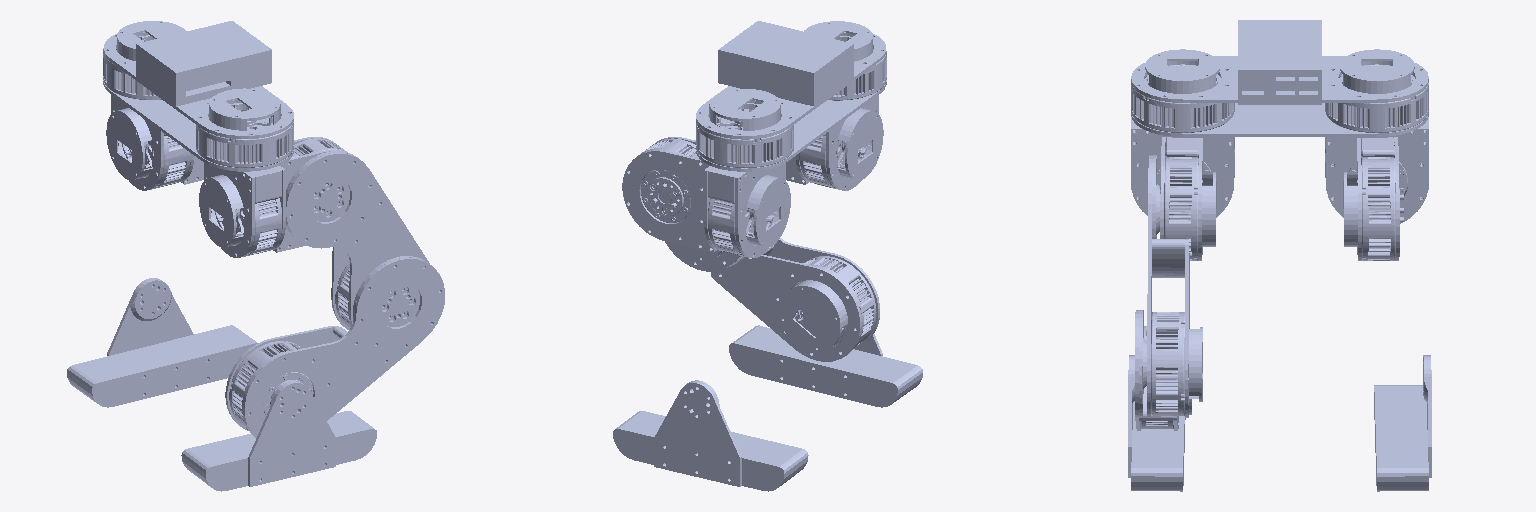
The robot description file, URDF, robot "openduckpro3":
<?xml version="1.0" encoding="utf-8"?>
<!-- This URDF was automatically created by SolidWorks to URDF Exporter! Originally created by Stephen Brawner (brawner@gmail.com)
     Commit Version: 1.6.0-4-g7f85cfe  Build Version: 1.6.7995.38578
     For more information, please see http://wiki.ros.org/sw_urdf_exporter -->
<robot
  name="openduckpro3">
  <!-- Pro3 rotates the physical robot 180 degrees and remaps leg names to root-frame left and right. -->
  <link
    name="base_link" />
  <joint
    name="base_turnaround_joint"
    type="fixed">
    <origin
      xyz="0 0 0"
      rpy="0 0 3.141592653589793" />
    <parent
      link="base_link" />
    <child
      link="base_rotated_link" />
  </joint>
  <link
    name="base_rotated_link">
    <inertial>
      <origin
        xyz="-0.00141080550252965 0 0.0266358869045288"
        rpy="0 0 0" />
      <mass
        value="1.38" />
      <inertia
        ixx="0.00179049"
        ixy="0"
        ixz="0.00001246"
        iyy="0.00039624"
        iyz="0"
        izz="0.00187534" />
    </inertial>
    <visual>
      <origin
        xyz="0 0 0"
        rpy="0 0 0" />
      <geometry>
        <mesh
          filename="../meshes/base_link.STL" />
      </geometry>
      <material
        name="">
        <color
          rgba="0.792156862745098 0.819607843137255 0.933333333333333 1" />
      </material>
    </visual>
    <collision>
      <origin
        xyz="0 0 0"
        rpy="0 0 0" />
      <geometry>
        <mesh
          filename="../meshes/base_link.STL" />
      </geometry>
    </collision>
  </link>
  <link
    name="right_leg_yaw_link">
    <inertial>
      <origin
        xyz="-0.000168509325045557 0.000746362761765561 -0.0417397454040535"
        rpy="0 0 0" />
      <mass
        value="0.48200000" />
      <inertia
        ixx="0.00016435"
        ixy="-0.00000073"
        ixz="-0.00000093"
        iyy="0.00010408"
        iyz="-0.00000016"
        izz="0.00009129" />
    </inertial>
    <visual>
      <origin
        xyz="0 0 0"
        rpy="0 0 0" />
      <geometry>
        <mesh
          filename="../meshes/left_leg_yaw_link.STL" />
      </geometry>
      <material
        name="">
        <color
          rgba="0.792156862745098 0.819607843137255 0.933333333333333 1" />
      </material>
    </visual>
    <collision>
      <origin
        xyz="0 0 0"
        rpy="0 0 0" />
      <geometry>
        <mesh
          filename="../meshes/left_leg_yaw_link.STL" />
      </geometry>
    </collision>
  </link>
  <joint
    name="right_leg_yaw_joint"
    type="revolute">
    <origin
      xyz="0 0.075 -0.0005"
      rpy="0 0 1.5666" />
    <parent
      link="base_rotated_link" />
    <child
      link="right_leg_yaw_link" />
    <axis
      xyz="0 0 1" />
    <limit
      lower="-2"
      upper="2"
      effort="30"
      velocity="21" />
  </joint>
  <link
    name="right_leg_roll_link">
    <inertial>
      <origin
        xyz="0.000744845290186466 0.0001750947555509 -0.0417397453817851"
        rpy="0 0 0" />
      <mass
        value="0.48200000" />
      <inertia
        ixx="0.00009132"
        ixy="0.00000188"
        ixz="0.00000018"
        iyy="0.00016433"
        iyz="0.00000005"
        izz="0.00010407" />
    </inertial>
    <visual>
      <origin
        xyz="0 0 0"
        rpy="0 0 0" />
      <geometry>
        <mesh
          filename="../meshes/left_leg_roll_link.STL" />
      </geometry>
      <material
        name="">
        <color
          rgba="0.792156862745098 0.819607843137255 0.933333333333333 1" />
      </material>
    </visual>
    <collision>
      <origin
        xyz="0 0 0"
        rpy="0 0 0" />
      <geometry>
        <mesh
          filename="../meshes/left_leg_roll_link.STL" />
      </geometry>
    </collision>
  </link>
  <joint
    name="right_leg_roll_joint"
    type="revolute">
    <origin
      xyz="0.00014573 0.016499 -0.049"
      rpy="1.5708 0 -0.0088323" />
    <parent
      link="right_leg_yaw_link" />
    <child
      link="right_leg_roll_link" />
    <axis
      xyz="0 0 1" />
    <limit
      lower="-2"
      upper="2"
      effort="30"
      velocity="21" />
  </joint>
  <link
    name="right_leg_pitch_link">
    <inertial>
      <origin
        xyz="-0.0476473292738206 -0.0769900006807549 0.00428321304072461"
        rpy="0 0 0" />
      <mass
        value="0.59500000" />
      <inertia
        ixx="0.00041776"
        ixy="-0.00001490"
        ixz="-0.00016045"
        iyy="0.00056091"
        iyz="-0.00002449"
        izz="0.00018412" />
    </inertial>
    <visual>
      <origin
        xyz="0 0 0"
        rpy="0 0 0" />
      <geometry>
        <mesh
          filename="../meshes/left_leg_pitch_link.STL" />
      </geometry>
      <material
        name="">
        <color
          rgba="0.792156862745098 0.819607843137255 0.933333333333333 1" />
      </material>
    </visual>
    <collision>
      <origin
        xyz="0 0 0"
        rpy="0 0 0" />
      <geometry>
        <mesh
          filename="../meshes/left_leg_pitch_link.STL" />
      </geometry>
    </collision>
  </link>
  <joint
    name="right_leg_pitch_joint"
    type="revolute">
    <origin
      xyz="0.0165 0 -0.049"
      rpy="0 -1.5708 0" />
    <parent
      link="right_leg_roll_link" />
    <child
      link="right_leg_pitch_link" />
    <axis
      xyz="0 0 1" />
    <limit
      lower="-2"
      upper="2"
      effort="30"
      velocity="21" />
  </joint>
  <link
    name="right_knee_pitch_link">
    <inertial>
      <origin
        xyz="0.0769900006831681 -0.0476473292752241 0.00428321304107685"
        rpy="0 0 0" />
      <mass
        value="0.59500000" />
      <inertia
        ixx="0.00018488"
        ixy="0.00003146"
        ixz="0.00015989"
        iyy="0.00055974"
        iyz="-0.00001884"
        izz="0.00041817" />
    </inertial>
    <visual>
      <origin
        xyz="0 0 0"
        rpy="0 0 0" />
      <geometry>
        <mesh
          filename="../meshes/left_knee_pitch_link.STL" />
      </geometry>
      <material
        name="">
        <color
          rgba="0.792156862745098 0.819607843137255 0.933333333333333 1" />
      </material>
    </visual>
    <collision>
      <origin
        xyz="0 0 0"
        rpy="0 0 0" />
      <geometry>
        <mesh
          filename="../meshes/left_knee_pitch_link.STL" />
      </geometry>
    </collision>
  </link>
  <joint
    name="right_knee_pitch_joint"
    type="revolute">
    <origin
      xyz="-0.06 -0.10392 -0.0095"
      rpy="0 0 0" />
    <parent
      link="right_leg_pitch_link" />
    <child
      link="right_knee_pitch_link" />
    <axis
      xyz="0 0 1" />
    <limit
      lower="-2"
      upper="2"
      effort="30"
      velocity="21" />
  </joint>
  <link
    name="right_ankle_pitch_link">
    <inertial>
      <origin
        xyz="-0.000135018905672298 -0.0514949406389236 0.0148389070782686"
        rpy="0 0 0" />
      <mass
        value="0.10200000" />
      <inertia
        ixx="0.00005446"
        ixy="0.00000355"
        ixz="-0.00000017"
        iyy="0.00033166"
        iyz="-0.00000821"
        izz="0.00033135" />
    </inertial>
    <visual>
      <origin
        xyz="0 0 0"
        rpy="0 0 0" />
      <geometry>
        <mesh
          filename="../meshes/left_ankle_pitch_link.STL" />
      </geometry>
      <material
        name="">
        <color
          rgba="0.792156862745098 0.819607843137255 0.933333333333333 1" />
      </material>
    </visual>
  </link>
  <link
    name="right_foot_link">
    <inertial>
      <origin
        xyz="0 0 0"
        rpy="0 0 0" />
      <mass
        value="0.001" />
      <inertia
        ixx="0.000001"
        ixy="0"
        ixz="0"
        iyy="0.000001"
        iyz="0"
        izz="0.000001" />
    </inertial>
    <collision>
      <origin
        xyz="-0.045 0 -0.0155"
        rpy="0 0 0" />
      <geometry>
        <sphere
          radius="0.006" />
      </geometry>
    </collision>
    <collision>
      <origin
        xyz="-0.045 0 0.0155"
        rpy="0 0 0" />
      <geometry>
        <sphere
          radius="0.006" />
      </geometry>
    </collision>
    <collision>
      <origin
        xyz="0.045 0 -0.0155"
        rpy="0 0 0" />
      <geometry>
        <sphere
          radius="0.006" />
      </geometry>
    </collision>
    <collision>
      <origin
        xyz="0.045 0 0.0155"
        rpy="0 0 0" />
      <geometry>
        <sphere
          radius="0.006" />
      </geometry>
    </collision>
  </link>
  <joint
    name="right_foot_fixed_joint"
    type="fixed"
    dont_collapse="true">
    <origin
      xyz="0 -0.061 0.0155"
      rpy="0 0 0" />
    <parent
      link="right_ankle_pitch_link" />
    <child
      link="right_foot_link" />
  </joint>
  <joint
    name="right_ankle_pitch_joint"
    type="revolute">
    <origin
      xyz="0.10392 -0.06 -0.0095"
      rpy="0 0 0" />
    <parent
      link="right_knee_pitch_link" />
    <child
      link="right_ankle_pitch_link" />
    <axis
      xyz="0 0 1" />
    <limit
      lower="-2"
      upper="2"
      effort="30"
      velocity="21" />
  </joint>
  <link
    name="left_leg_yaw_link">
    <inertial>
      <origin
        xyz="0.000162239499888887 0.000747750700068832 -0.0417397454040535"
        rpy="0 0 0" />
      <mass
        value="0.48200000" />
      <inertia
        ixx="0.000164333502184861"
        ixy="1.23569864470197e-06"
        ixz="9.31310055967726e-07"
        iyy="0.000104096497815139"
        iyz="-1.52189288891795e-07"
        izz="9.129e-05" />
    </inertial>
    <visual>
      <origin
        xyz="0 0 0"
        rpy="0 0 -3.1332" />
      <geometry>
        <mesh
          filename="../meshes/right_leg_yaw_link.STL" />
      </geometry>
      <material
        name="">
        <color
          rgba="0.792156862745098 0.819607843137255 0.933333333333333 1" />
      </material>
    </visual>
    <collision>
      <origin
        xyz="0 0 0"
        rpy="0 0 -3.1332" />
      <geometry>
        <mesh
          filename="../meshes/right_leg_yaw_link.STL" />
      </geometry>
    </collision>
  </link>
  <joint
    name="left_leg_yaw_joint"
    type="revolute">
    <origin
      xyz="0 -0.075 -0.0005"
      rpy="0 0 1.5666" />
    <parent
      link="base_rotated_link" />
    <child
      link="left_leg_yaw_link" />
    <axis
      xyz="0 0 1" />
    <limit
      lower="-2"
      upper="2"
      effort="30"
      velocity="21" />
  </joint>
  <link
    name="left_leg_roll_link">
    <inertial>
      <origin
        xyz="-0.0018320924752507 0.000175094878881921 -0.0417061695215649"
        rpy="0 0 0" />
      <mass
        value="0.48200000" />
      <inertia
        ixx="9.13192783166185e-05"
        ixy="-1.87805209170626e-06"
        ixz="1.52324008039352e-07"
        iyy="0.000164330000359717"
        iyz="9.89650300594828e-08"
        izz="0.000104070721323664" />
    </inertial>
    <visual>
      <origin
        xyz="0 0 0"
        rpy="1.24736998508013e-09 -0.0260572535896173 3.14159255785449" />
      <geometry>
        <mesh
          filename="../meshes/right_leg_roll_link.STL" />
      </geometry>
      <material
        name="">
        <color
          rgba="0.792156862745098 0.819607843137255 0.933333333333333 1" />
      </material>
    </visual>
    <collision>
      <origin
        xyz="0 0 0"
        rpy="1.24736998508013e-09 -0.0260572535896173 3.14159255785449" />
      <geometry>
        <mesh
          filename="../meshes/right_leg_roll_link.STL" />
      </geometry>
    </collision>
  </link>
  <joint
    name="left_leg_roll_joint"
    type="revolute">
    <origin
      xyz="-0.000284193633683769 0.0164971958893466 -0.049"
      rpy="1.5708 0 -0.0088323" />
    <parent
      link="left_leg_yaw_link" />
    <child
      link="left_leg_roll_link" />
    <axis
      xyz="0 0 1" />
    <limit
      lower="-2"
      upper="2"
      effort="30"
      velocity="21" />
  </joint>
  <link
    name="left_leg_pitch_link">
    <inertial>
      <origin
        xyz="-0.0477427727632244 -0.0769900010312396 -0.0030399828604115"
        rpy="0 0 0" />
      <mass
        value="0.59500000" />
      <inertia
        ixx="0.000425961651983631"
        ixy="-1.42566746645923e-05"
        ixz="0.000154145067567034"
        iyy="0.000560910004724689"
        iyz="2.48699635822043e-05"
        izz="0.000175918343291679" />
    </inertial>
    <visual>
      <origin
        xyz="0 0 0"
        rpy="3.14159255785447 0.0260645999998239 -1.24772214782354e-09" />
      <geometry>
        <mesh
          filename="../meshes/right_leg_pitch_link.STL" />
      </geometry>
      <material
        name="">
        <color
          rgba="0.792156862745098 0.819607843137255 0.933333333333333 1" />
      </material>
    </visual>
    <collision>
      <origin
        xyz="0 0 0"
        rpy="3.14159255785447 0.0260645999998239 -1.24772214782354e-09" />
      <geometry>
        <mesh
          filename="../meshes/right_leg_pitch_link.STL" />
      </geometry>
    </collision>
  </link>
  <joint
    name="left_leg_pitch_joint"
    type="revolute">
    <origin
      xyz="-0.0177710596712465 1.64019668618631e-09 -0.0485534698879596"
      rpy="0 -1.5708 0" />
    <parent
      link="left_leg_roll_link" />
    <child
      link="left_leg_pitch_link" />
    <axis
      xyz="0 0 1" />
    <limit
      lower="-2"
      upper="2"
      effort="30"
      velocity="21" />
  </joint>
  <link
    name="left_knee_pitch_link">
    <inertial>
      <origin
        xyz="0.0768522225355034 -0.0476473297811689 -0.00628823999932516"
        rpy="0 0 0" />
      <mass
        value="0.59500000" />
      <inertia
        ixx="0.000176707289381235"
        ixy="3.19403005067536e-05"
        ixz="-0.000153594948506433"
        iyy="0.0005597400035276"
        iyz="1.80136883275574e-05"
        izz="0.000426342707091164" />
    </inertial>
    <visual>
      <origin
        xyz="0 0 0"
        rpy="3.14159255785447 0.0260645999998239 -1.24772214782354e-09" />
      <geometry>
        <mesh
          filename="../meshes/right_knee_pitch_link.STL" />
      </geometry>
      <material
        name="">
        <color
          rgba="0.792156862745098 0.819607843137255 0.933333333333333 1" />
      </material>
    </visual>
    <collision>
      <origin
        xyz="0 0 0"
        rpy="3.14159255785447 0.0260645999998239 -1.24772214782354e-09" />
      <geometry>
        <mesh
          filename="../meshes/right_knee_pitch_link.STL" />
      </geometry>
    </collision>
  </link>
  <joint
    name="left_knee_pitch_joint"
    type="revolute">
    <origin
      xyz="-0.059732034458659 -0.103919999015985 0.0110604820847577"
      rpy="0 0 0" />
    <parent
      link="left_leg_pitch_link" />
    <child
      link="left_knee_pitch_link" />
    <axis
      xyz="0 0 1" />
    <limit
      lower="-2"
      upper="2"
      effort="30"
      velocity="21" />
  </joint>
  <link
    name="left_ankle_pitch_link">
    <inertial>
      <origin
        xyz="-0.000521699366591361 -0.0514949420588799 -0.0148303431151184"
        rpy="0 0 0" />
      <mass
        value="0.10200000" />
      <inertia
        ixx="5.46569242716418e-05"
        ixy="3.76276069668404e-06"
        ixz="7.38352758065726e-06"
        iyy="0.000331660001562584"
        iyz="8.11469247841254e-06"
        izz="0.000331153074165774" />
    </inertial>
    <visual>
      <origin
        xyz="0 0 0"
        rpy="3.14159255785447 0.0260645999998239 -1.24772214782354e-09" />
      <geometry>
        <mesh
          filename="../meshes/right_ankle_pitch_link.STL" />
      </geometry>
      <material
        name="">
        <color
          rgba="0.792156862745098 0.819607843137255 0.933333333333333 1" />
      </material>
    </visual>
  </link>
  <link
    name="left_foot_link">
    <inertial>
      <origin
        xyz="0 0 0"
        rpy="0 0 0" />
      <mass
        value="0.001" />
      <inertia
        ixx="0.000001"
        ixy="0"
        ixz="0"
        iyy="0.000001"
        iyz="0"
        izz="0.000001" />
    </inertial>
    <collision>
      <origin
        xyz="-0.0445807596327834 0.0000000010395219 0.0166675094314195"
        rpy="3.14159255785447 0.0260645999998239 -1.24772214782354e-09" />
      <geometry>
        <sphere
          radius="0.006" />
      </geometry>
    </collision>
    <collision>
      <origin
        xyz="-0.0453886707479903 -0.0000000019272650 -0.0143219610324319"
        rpy="3.14159255785447 0.0260645999998239 -1.24772214782354e-09" />
      <geometry>
        <sphere
          radius="0.006" />
      </geometry>
    </collision>
    <collision>
      <origin
        xyz="0.0453886707461404 0.0000000009272650 0.0143219610324318"
        rpy="3.14159255785447 0.0260645999998239 -1.24772214782354e-09" />
      <geometry>
        <sphere
          radius="0.006" />
      </geometry>
    </collision>
    <collision>
      <origin
        xyz="0.0445807596309335 -0.0000000020395218 -0.0166675094314195"
        rpy="3.14159255785447 0.0260645999998239 -1.24772214782354e-09" />
      <geometry>
        <sphere
          radius="0.006" />
      </geometry>
    </collision>
  </link>
  <joint
    name="left_foot_fixed_joint"
    type="fixed"
    dont_collapse="true">
    <origin
      xyz="-0.0004039554805933 -0.0610000009833932 -0.0154947293940548"
      rpy="0 0 0" />
    <parent
      link="left_ankle_pitch_link" />
    <child
      link="left_foot_link" />
  </joint>
  <joint
    name="left_ankle_pitch_joint"
    type="revolute">
    <origin
      xyz="0.104132288016706 -0.0599999992204424 0.00678845239746779"
      rpy="0 0 0" />
    <parent
      link="left_knee_pitch_link" />
    <child
      link="left_ankle_pitch_link" />
    <axis
      xyz="0 0 1" />
    <limit
      lower="-2"
      upper="2"
      effort="30"
      velocity="21" />
  </joint>
</robot>

--- What the picture shows (computed from the rendered views, not written in the file) ---
The picture shows the robot from 3 angles, left to right: view 1: azimuth 30°, elevation 25°; view 2: azimuth 150°, elevation 25°; view 3: azimuth 270°, elevation 25°; orthographic projection.
Robot: openduckpro3 — 14 links, 13 joints (10 revolute, 3 fixed); root link base_link; default pose: every joint at zero.
Visible links, largest first — view 1: base_rotated_link, right_knee_pitch_link, left_ankle_pitch_link, right_leg_pitch_link, right_ankle_pitch_link, right_leg_yaw_link, left_leg_yaw_link, right_leg_roll_link; view 2: base_rotated_link, right_knee_pitch_link, left_ankle_pitch_link, right_ankle_pitch_link, left_leg_roll_link, left_leg_yaw_link, right_leg_yaw_link, right_leg_pitch_link; view 3: base_rotated_link, right_leg_pitch_link, left_leg_roll_link, left_ankle_pitch_link, right_leg_roll_link, left_leg_yaw_link, right_ankle_pitch_link, right_leg_yaw_link, right_knee_pitch_link.
Boxes of the visible links, box(x1,y1,x2,y2) form: base_rotated_link: box(103, 21, 293, 171); right_knee_pitch_link: box(225, 256, 444, 437); left_ankle_pitch_link: box(67, 278, 257, 407); right_leg_pitch_link: box(286, 151, 429, 329); right_ankle_pitch_link: box(181, 380, 376, 491); right_leg_yaw_link: box(199, 163, 285, 257); left_leg_yaw_link: box(106, 95, 194, 190); right_leg_roll_link: box(273, 137, 347, 252); base_rotated_link: box(696, 21, 886, 171); right_knee_pitch_link: box(711, 238, 879, 361); left_ankle_pitch_link: box(613, 380, 808, 491); right_ankle_pitch_link: box(729, 325, 922, 407); left_leg_roll_link: box(622, 137, 716, 252); left_leg_yaw_link: box(704, 163, 790, 257); right_leg_yaw_link: box(796, 95, 883, 190); right_leg_pitch_link: box(665, 242, 740, 271); base_rotated_link: box(1131, 20, 1428, 136); right_leg_pitch_link: box(1147, 155, 1202, 417); left_leg_roll_link: box(1343, 137, 1403, 260); left_ankle_pitch_link: box(1374, 355, 1431, 491); right_leg_roll_link: box(1160, 137, 1216, 260); left_leg_yaw_link: box(1325, 117, 1428, 223); right_ankle_pitch_link: box(1128, 355, 1185, 491); right_leg_yaw_link: box(1131, 117, 1234, 217); right_knee_pitch_link: box(1135, 310, 1191, 430).
Bounding box of the posed robot: 0.2258 × 0.2346 × 0.3424 m (x, y, z).
9 mesh visuals loaded from 11 distinct referenced files (9 binary STL); not drawn: 2 (reference not matched to a file when rendering).
